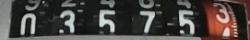digits: (88, 0, 124, 32), (173, 0, 196, 37), (136, 0, 160, 33), (212, 2, 230, 23), (59, 9, 75, 32), (19, 13, 36, 34)
